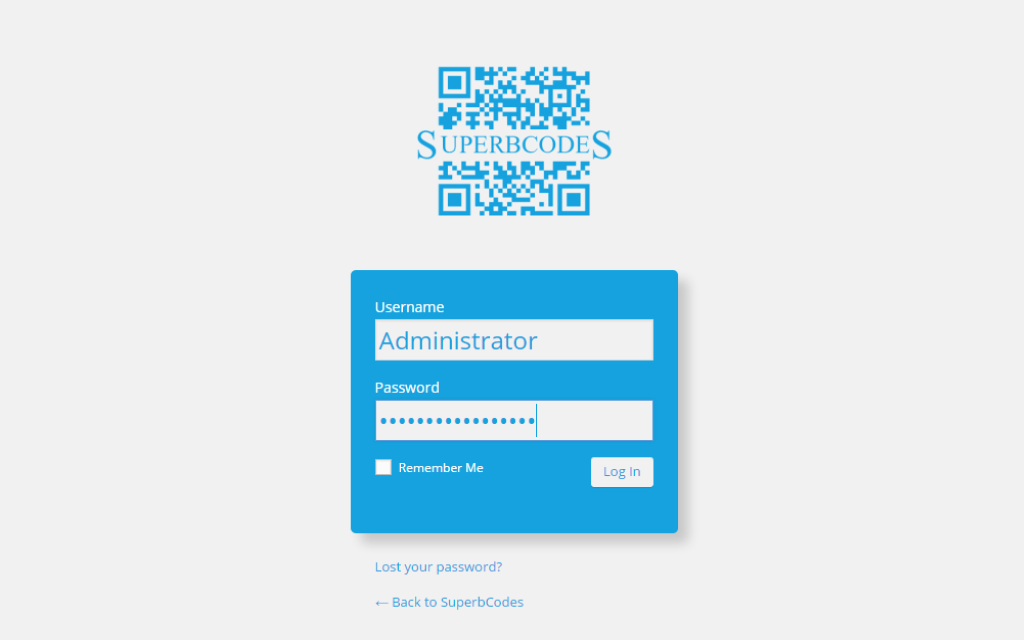button: (590, 457, 654, 487)
button_login: (591, 455, 654, 486)
checkbox: (375, 458, 392, 476)
label_Login: (600, 463, 645, 480)
label_Username: (372, 294, 449, 317)
label_password: (375, 378, 441, 398)
label_remember: (399, 460, 462, 475)
textbox: (373, 320, 653, 360), (375, 402, 652, 441)
